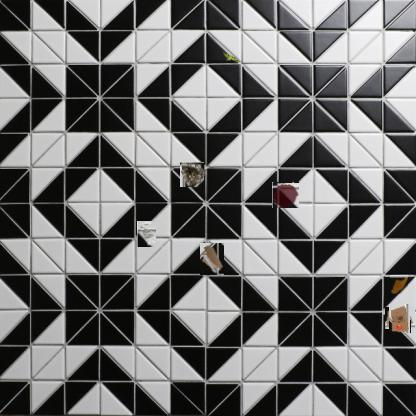dirty: (200, 243, 224, 275), (387, 306, 413, 332), (180, 163, 205, 187), (137, 221, 156, 247), (221, 50, 241, 64)
liquid: (272, 182, 299, 208), (390, 275, 408, 294)
